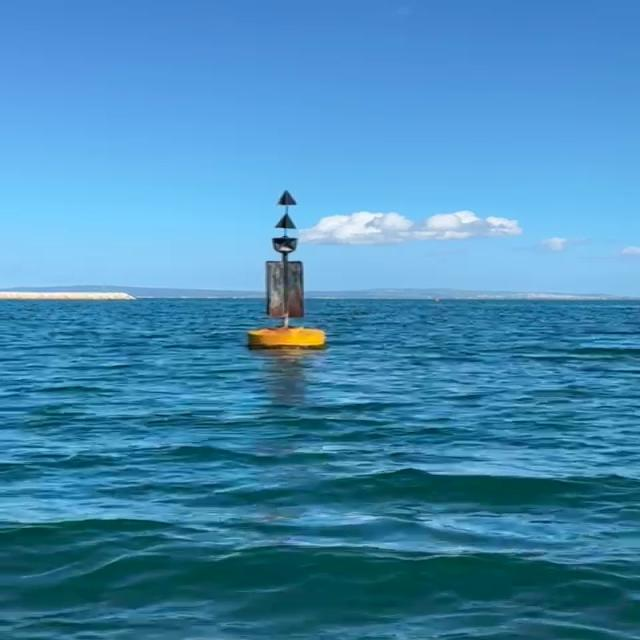marque: (250, 190, 338, 351)
